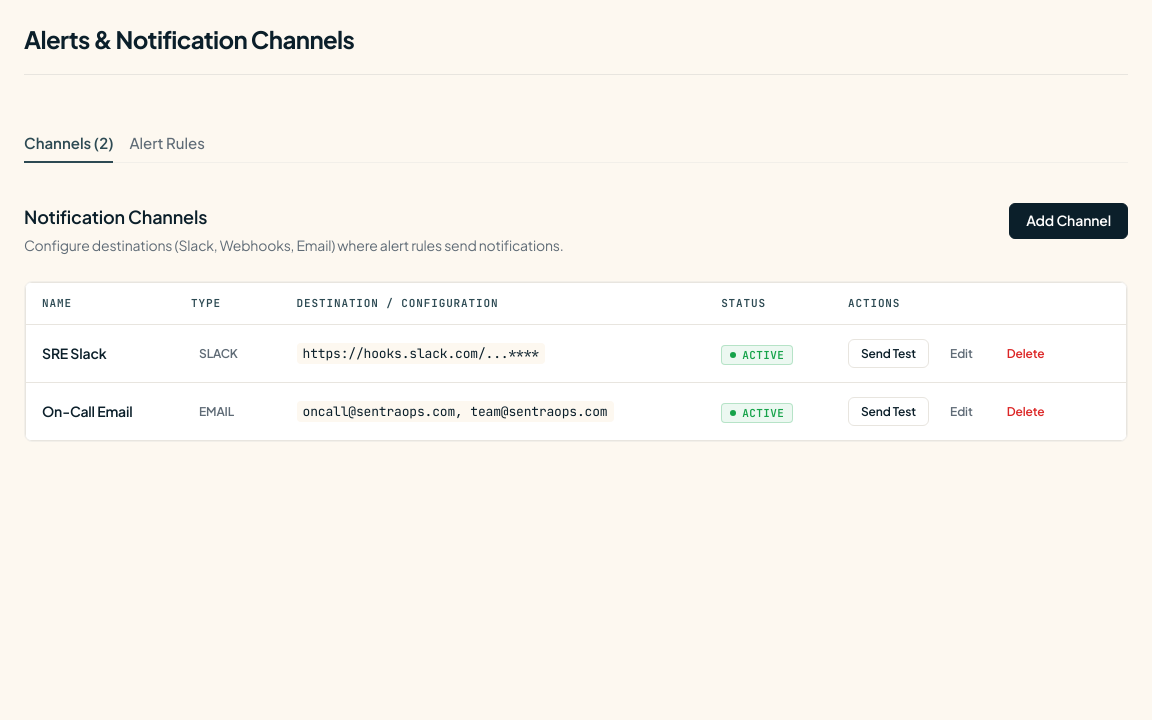
Step 2.5: Alerts & Notification Channels UI › switches to Alert Rules tab and displays rules, conditions, and snooze state
The width and height of the screenshot is (1152, 720).
Click the tab "Alert Rules". click: (167, 143)
box: [129, 123, 205, 162]
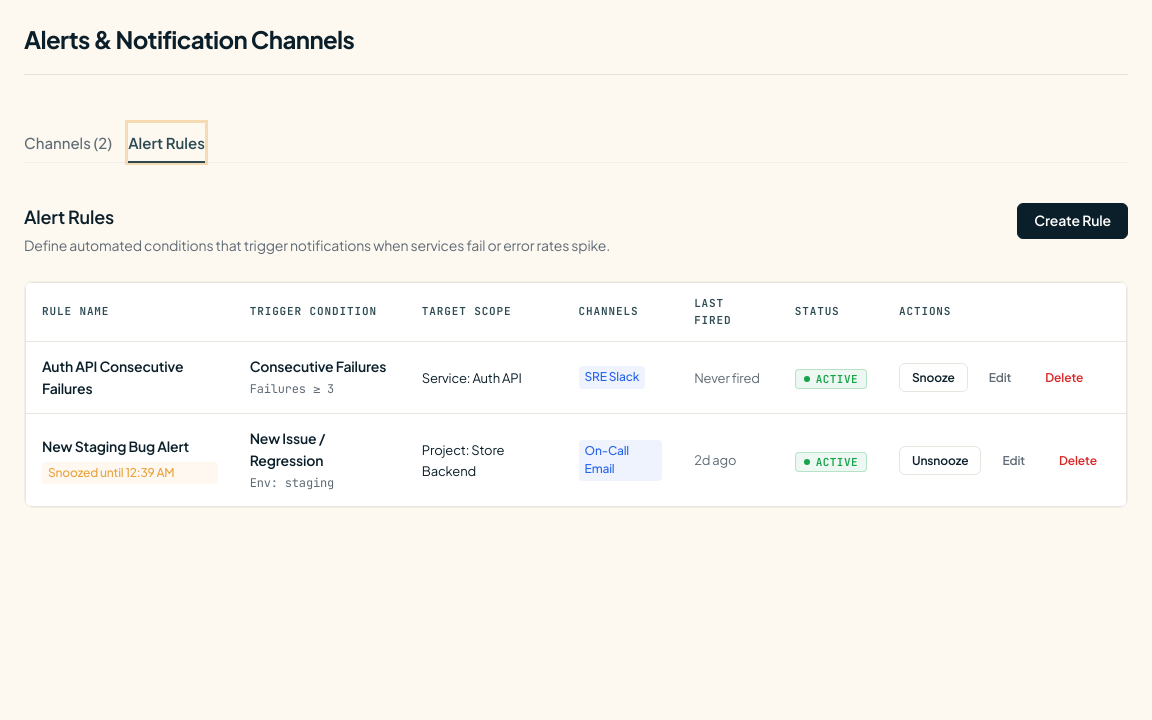
Expected: the text "Auth API Consecutive Failures" is shown, [42, 357, 183, 397]
Expected: the text "New Staging Bug Alert" is shown, [42, 437, 189, 455]
Expected: the text "Failures ≥ 3" is shown, [250, 381, 334, 397]
